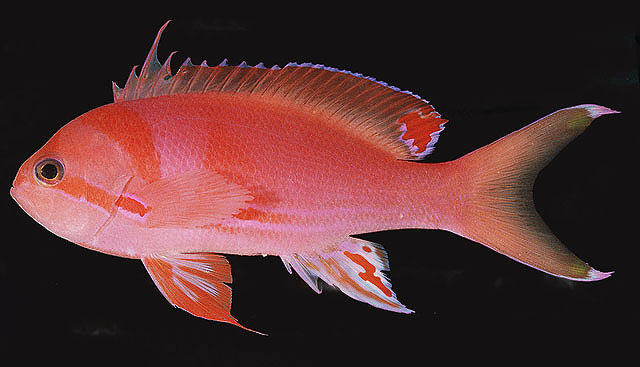fish: (9, 19, 620, 337)
